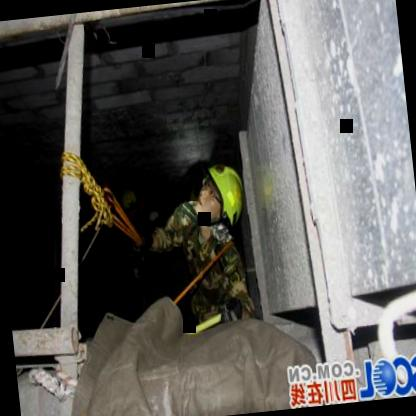helmet: (190, 160, 245, 228)
